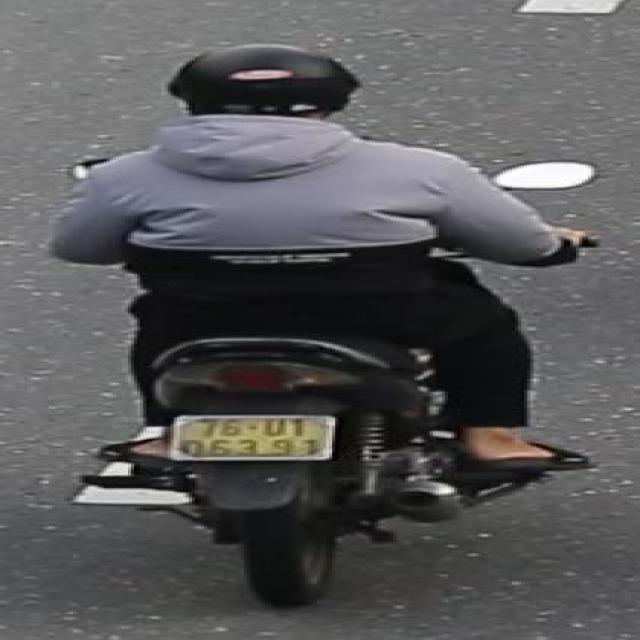LP: (165, 412, 342, 464)
helmet: (157, 38, 395, 159)
